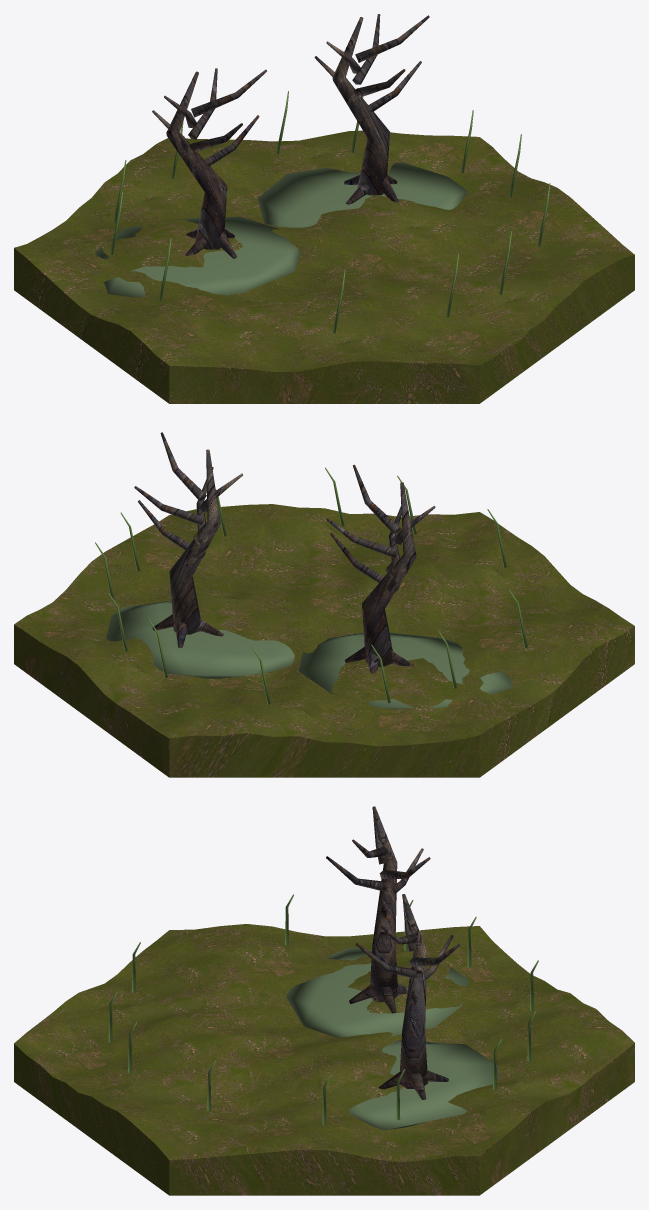
File: env-terrain-swamp.glb
3 renders of one model, top to bottom at view 1: azimuth 30°, elevation 25°; view 2: azimuth 150°, elevation 25°; view 3: azimuth 270°, elevation 25°, orthographic.
Visible parts, largest first — view 1: terrain swamp · authored textured miniature; view 2: terrain swamp · authored textured miniature; view 3: terrain swamp · authored textured miniature.
Part boxes in pixels (left/top/right/bottom): terrain swamp · authored textured miniature: left=14, top=14, right=634, bottom=403; terrain swamp · authored textured miniature: left=14, top=432, right=634, bottom=777; terrain swamp · authored textured miniature: left=14, top=806, right=634, bottom=1195.
Size of the model in its own units: 1.63 by 0.7518 by 1.88.
Materials: 4 (2 with a texture image).
